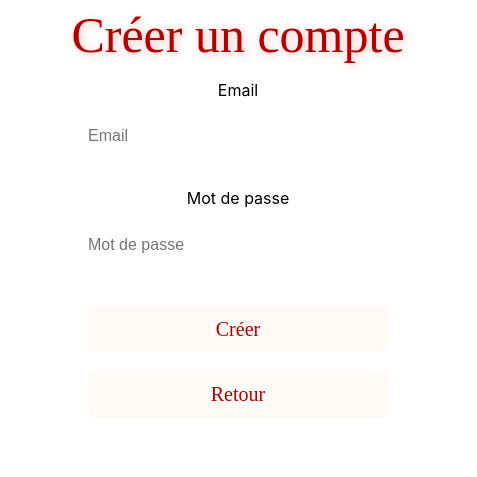
RegisterForm component › effacement des messages lors d'une nouvelle soumission
Step 1. Type "test@example.com" into the field with placeholder "Email" → [238, 136], box [69, 100, 407, 172]
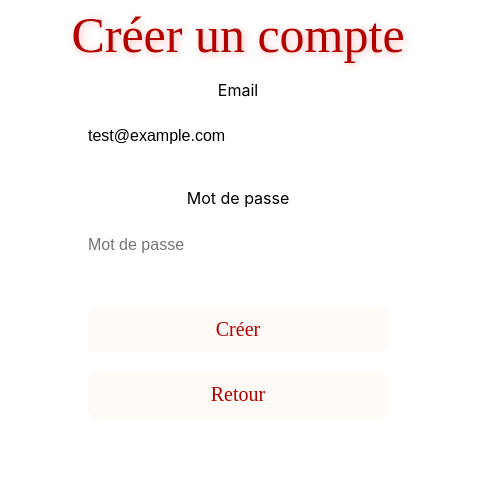
Step 2. Type "123" into the password field with placeholder "Mot de passe" → [238, 245], box [69, 208, 407, 281]
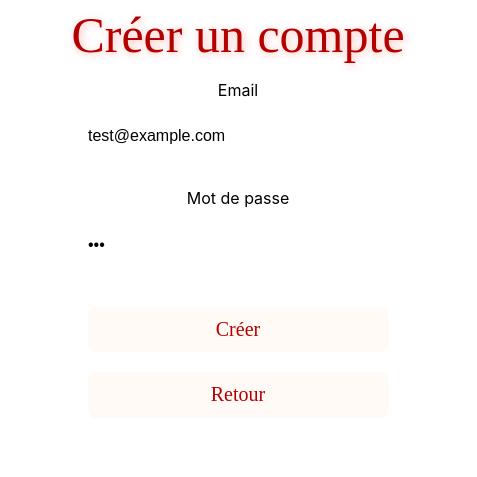
Step 3. Click the button "Créer" → [238, 330], box [88, 307, 388, 352]
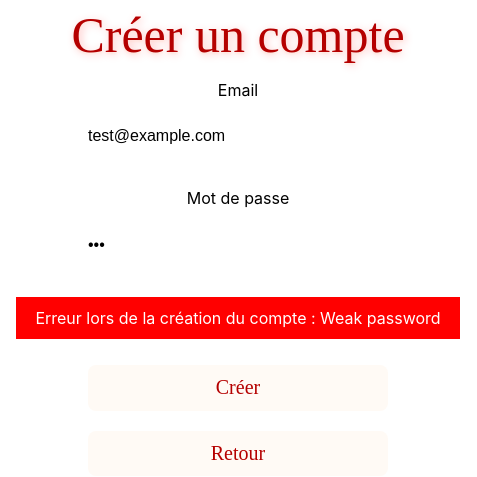
Expected: the text "Erreur lors de la création du compte : Weak password" is shown, [16, 297, 460, 339]
Step 4. Type "motdepassefort123" into the password field with placeholder "Mot de passe" → [238, 245], box [69, 208, 407, 281]
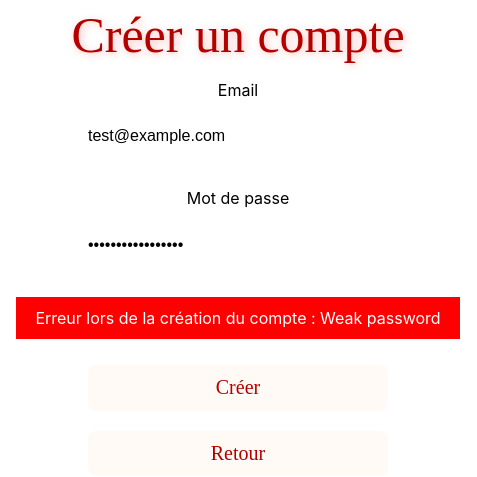
Step 5. Click the button "Créer" → [238, 388], box [88, 365, 388, 410]
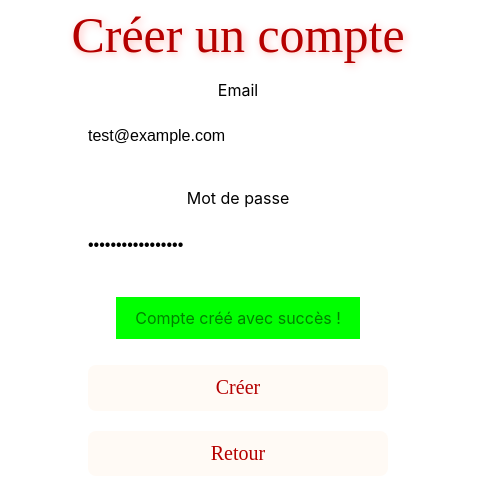
Expected: the text "Erreur lors de la création" is gone
Expected: the text "Compte créé avec succès !" is shown, [116, 297, 360, 339]
